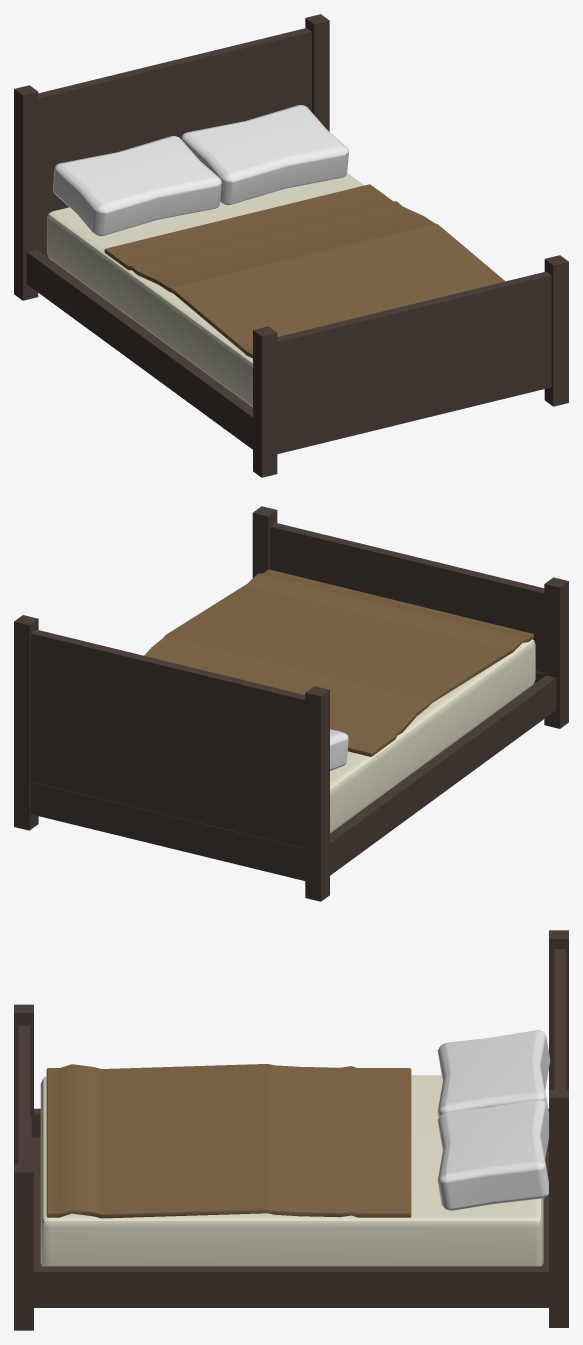
Rendered from colored bed.fbx.
The picture shows the model from 3 angles, top to bottom: view 1: azimuth 30°, elevation 25°; view 2: azimuth 150°, elevation 25°; view 3: azimuth 270°, elevation 25°; orthographic projection. The views are drawn at different scales.
Parts seen in each view (by area): view 1: bed_frame1, blanket, pillows, mattress; view 2: bed_frame1, blanket, mattress, pillows; view 3: blanket, bed_frame1, mattress, pillows.
Part boxes in pixels (<box>): bed_frame1: <box>14,14,568,477</box>; blanket: <box>104,184,505,358</box>; pillows: <box>52,105,348,236</box>; mattress: <box>47,173,364,407</box>; bed_frame1: <box>14,506,568,901</box>; blanket: <box>144,569,533,756</box>; mattress: <box>330,639,535,833</box>; pillows: <box>330,729,348,770</box>; blanket: <box>46,1064,411,1218</box>; bed_frame1: <box>14,930,568,1330</box>; mattress: <box>40,1075,543,1266</box>; pillows: <box>437,1030,550,1210</box>.
Size of the model in its own units: 1.98 by 1.28 by 2.76.
